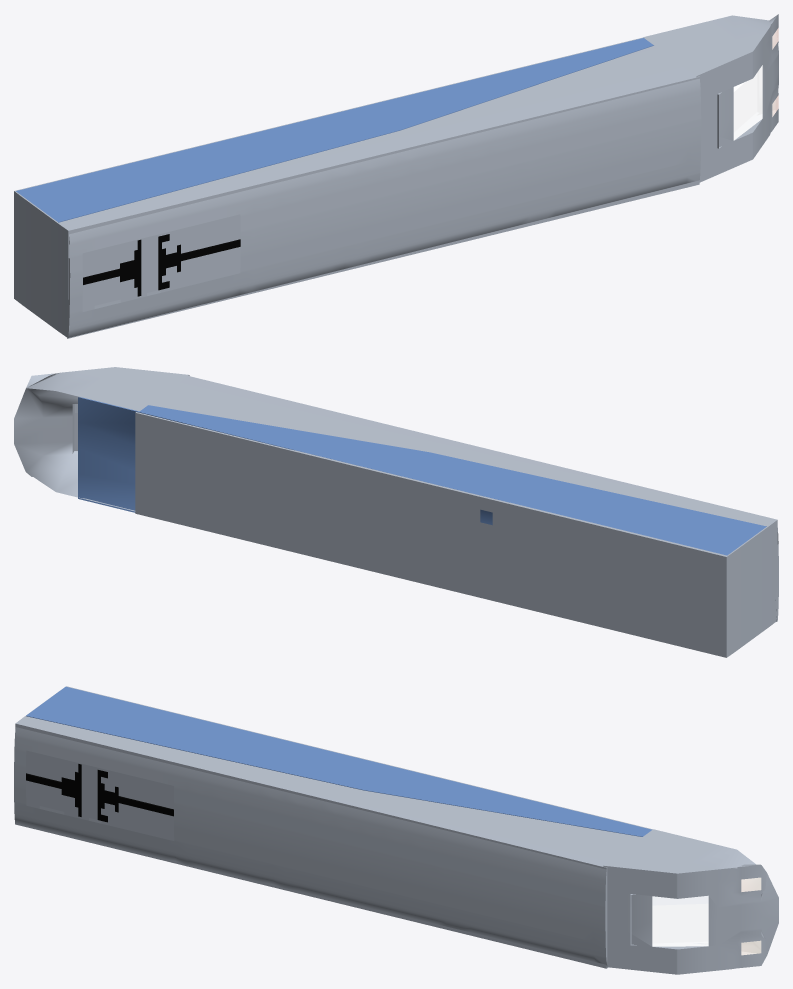
The model's file is asset4.glb.
3 views of the same model, one above another, from view 1: azimuth 30°, elevation 25°; view 2: azimuth 150°, elevation 25°; view 3: azimuth 330°, elevation 25° (orthographic). The views are drawn at different scales.
Visible parts, largest first — view 1: Cylinder2, Cube1_copy12, Cylinder13_copy14, Cylinder13, Cube13_copy14, Cube13_copy16; view 2: Cube1_copy12, Cylinder13_copy14, Cylinder13; view 3: Cylinder2, Cube1_copy12, Cylinder13, Cylinder13_copy14, Cube13_copy14, Cube13_copy16.
Part boxes in pixels (bbox=[...]): Cylinder2: bbox=[66, 78, 701, 338]; Cube1_copy12: bbox=[14, 37, 699, 338]; Cylinder13_copy14: bbox=[16, 38, 653, 222]; Cylinder13: bbox=[643, 14, 778, 182]; Cube13_copy14: bbox=[158, 234, 180, 290]; Cube13_copy16: bbox=[120, 239, 141, 296]; Cube1_copy12: bbox=[135, 376, 777, 657]; Cylinder13_copy14: bbox=[78, 397, 766, 555]; Cylinder13: bbox=[14, 367, 189, 511]; Cylinder2: bbox=[14, 727, 607, 966]; Cube1_copy12: bbox=[15, 686, 652, 968]; Cylinder13: bbox=[603, 829, 778, 974]; Cylinder13_copy14: bbox=[26, 686, 652, 836]; Cube13_copy14: bbox=[97, 770, 118, 822]; Cube13_copy16: bbox=[61, 764, 81, 816].
Size of what is drawn, in the model's own units: 0.947 by 0.1306 by 0.1205.
